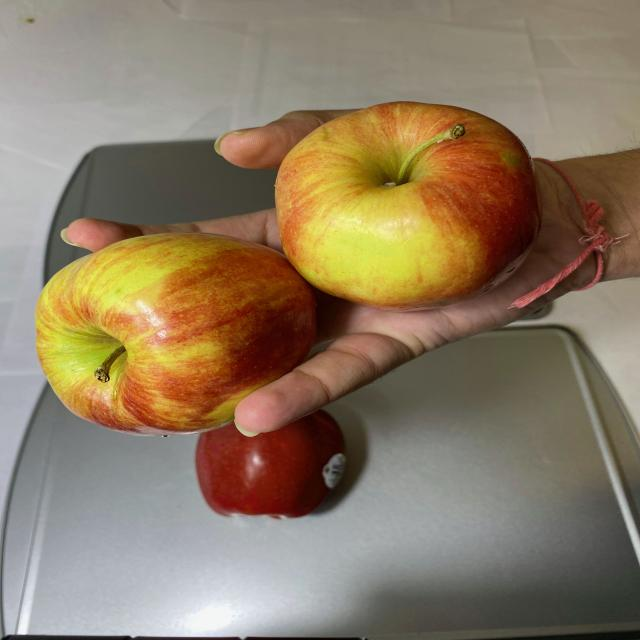apple: (34, 100, 537, 438), (174, 413, 354, 519)
